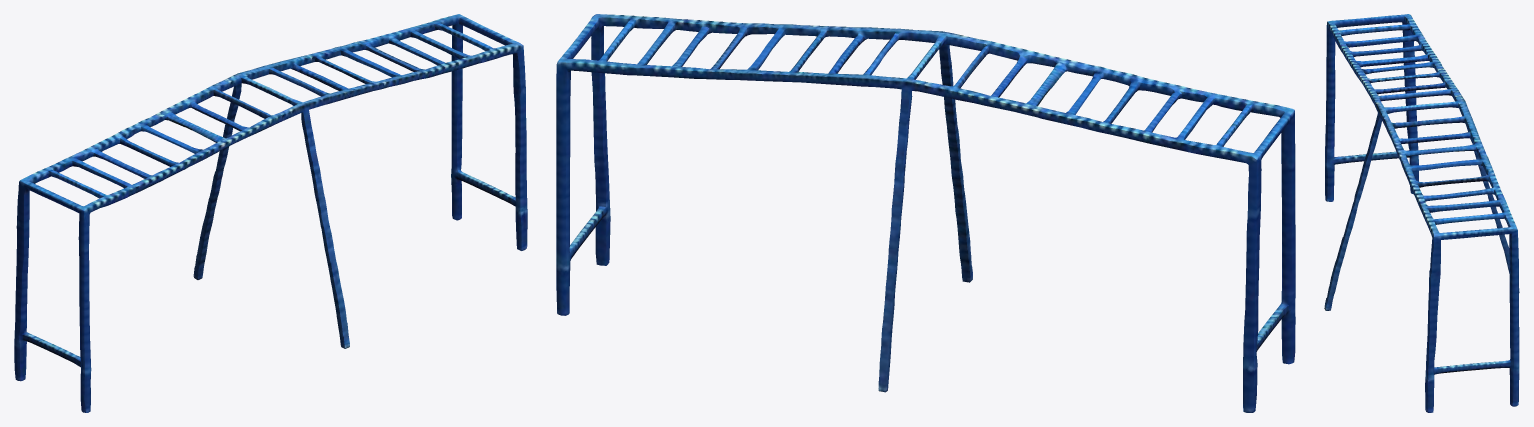
Rendered from monkey-bars-saienji-cc0.glb.
3 renders of one model, left to right at view 1: azimuth 30°, elevation 25°; view 2: azimuth 150°, elevation 25°; view 3: azimuth 270°, elevation 25°, orthographic. The views are drawn at different scales.
Visible parts, largest first — view 1: photo3_bars; view 2: photo3_bars; view 3: photo3_bars.
Part boxes in pixels (x1,y1,x2,y2): photo3_bars: (14, 14, 527, 412); photo3_bars: (556, 14, 1295, 412); photo3_bars: (1324, 14, 1519, 412).
Size of the model in its own units: 5.29 by 2.2 by 1.96.
Materials: 1 (1 with a texture image).
